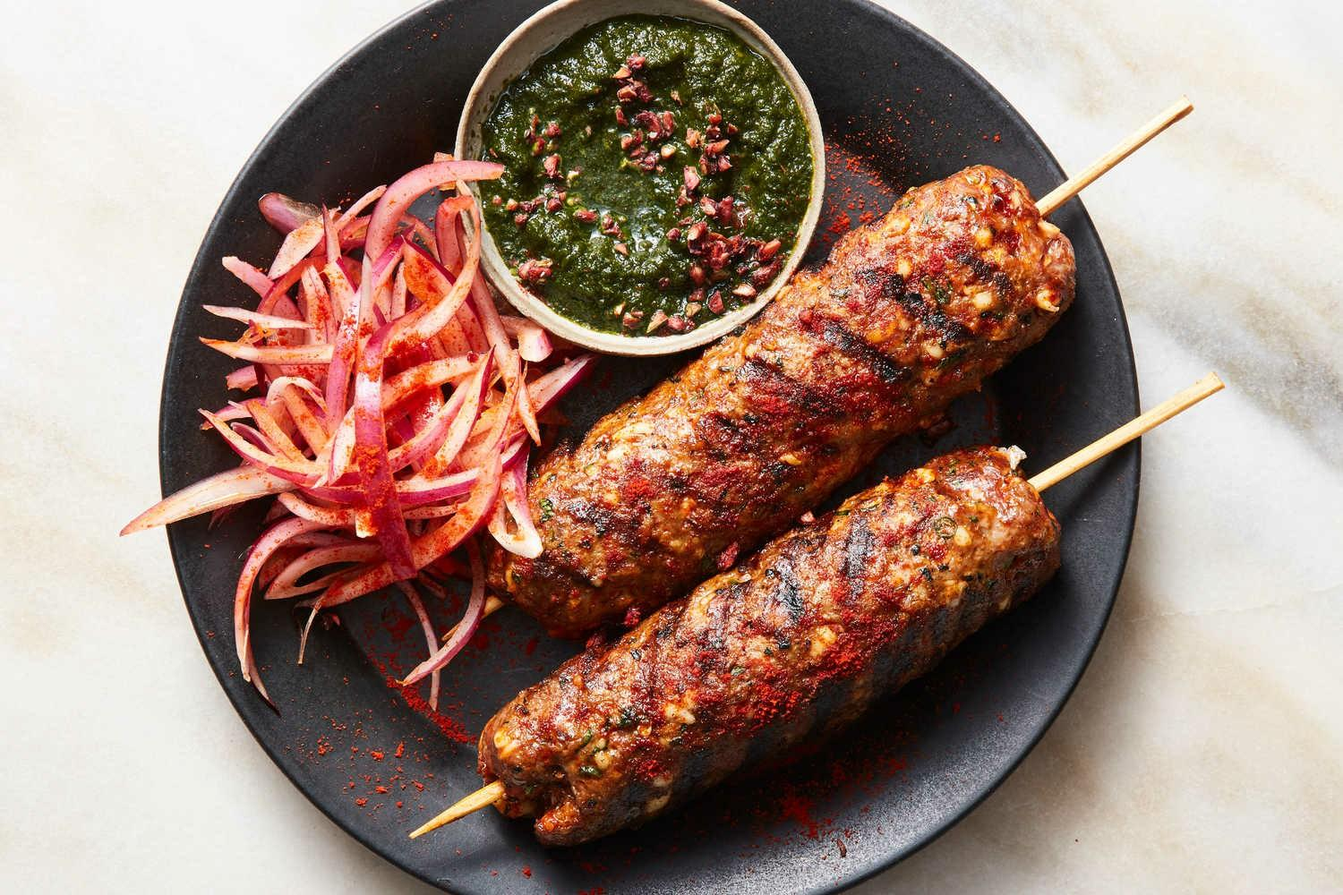GreenChutney: (477, 16, 813, 337)
Kebab: (495, 164, 1077, 638), (479, 450, 1065, 849)
